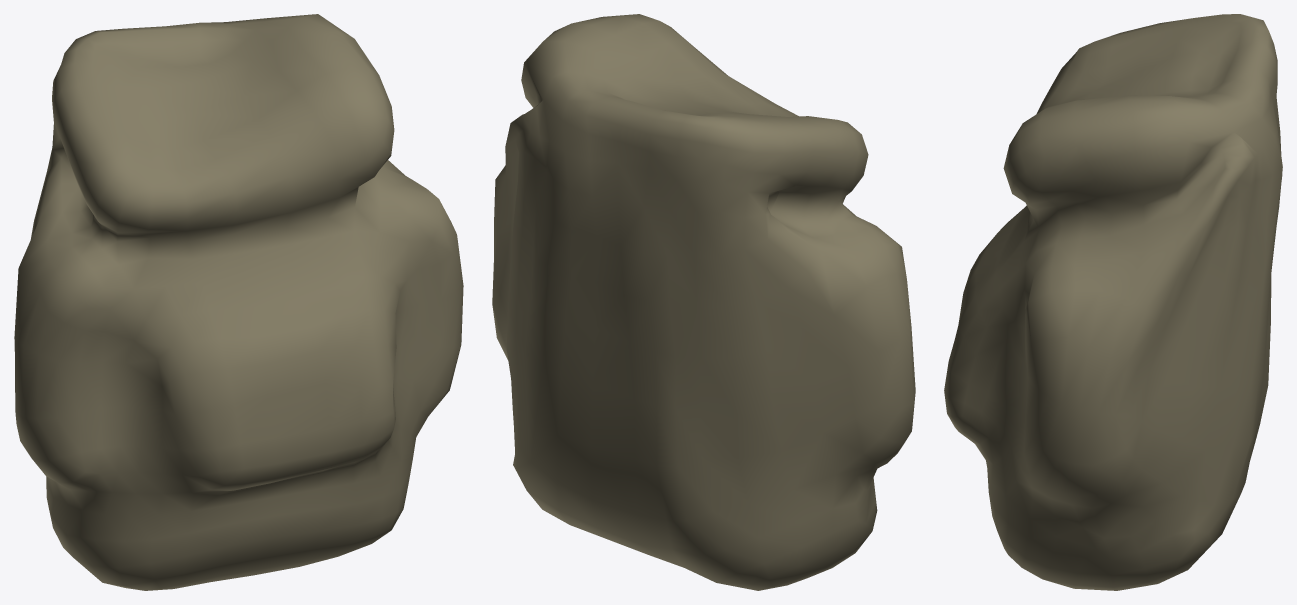
File: backpack.glb
The picture shows the model from 3 angles, left to right: view 1: azimuth 30°, elevation 25°; view 2: azimuth 150°, elevation 25°; view 3: azimuth 270°, elevation 25°; orthographic projection.
Visible parts, largest first — view 1: ZBrush_defualt_group; view 2: ZBrush_defualt_group; view 3: ZBrush_defualt_group.
Part boxes in pixels (x1,y1,x2,y2): ZBrush_defualt_group: (14, 14, 463, 590); ZBrush_defualt_group: (492, 14, 915, 590); ZBrush_defualt_group: (944, 14, 1282, 590).
Bounding box in the file's own units: 8.63 × 9.78 × 6.03.
